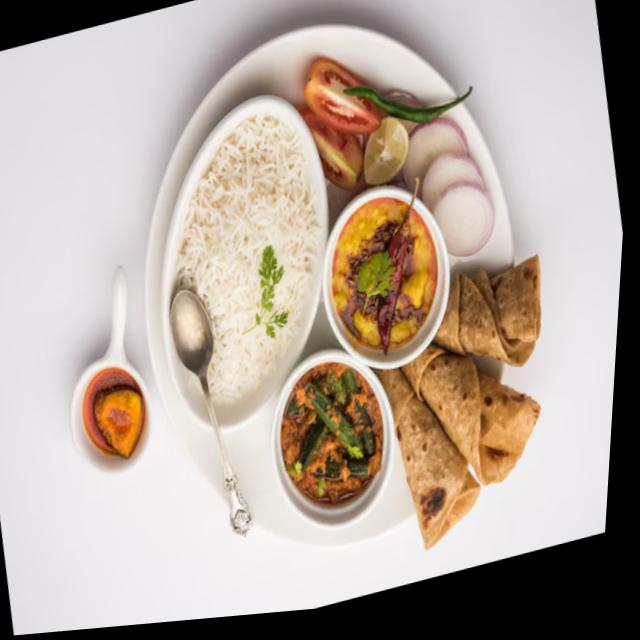CHAPATHI: (372, 261, 542, 550)
CURRY: (281, 363, 381, 511)
PICKLE: (82, 367, 142, 456)
RICE: (173, 109, 317, 409)
SAMBAR: (333, 195, 439, 349)
